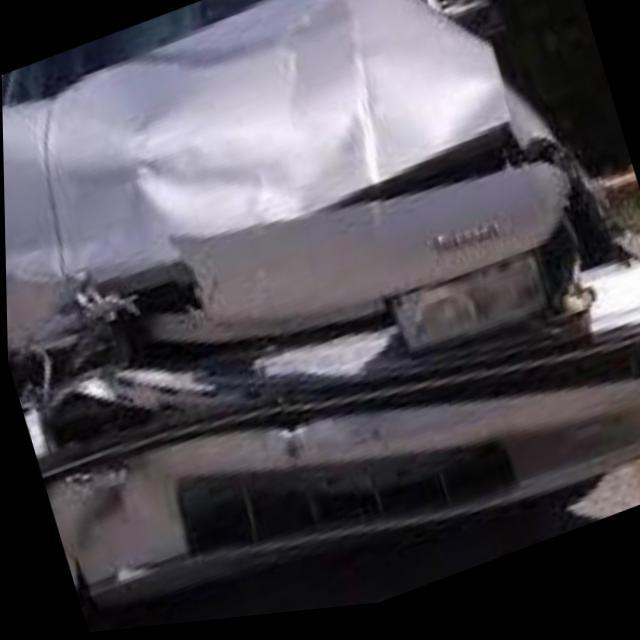crash: (2, 0, 640, 601)
